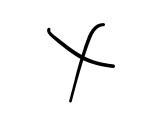mult: (46, 20, 116, 103)
